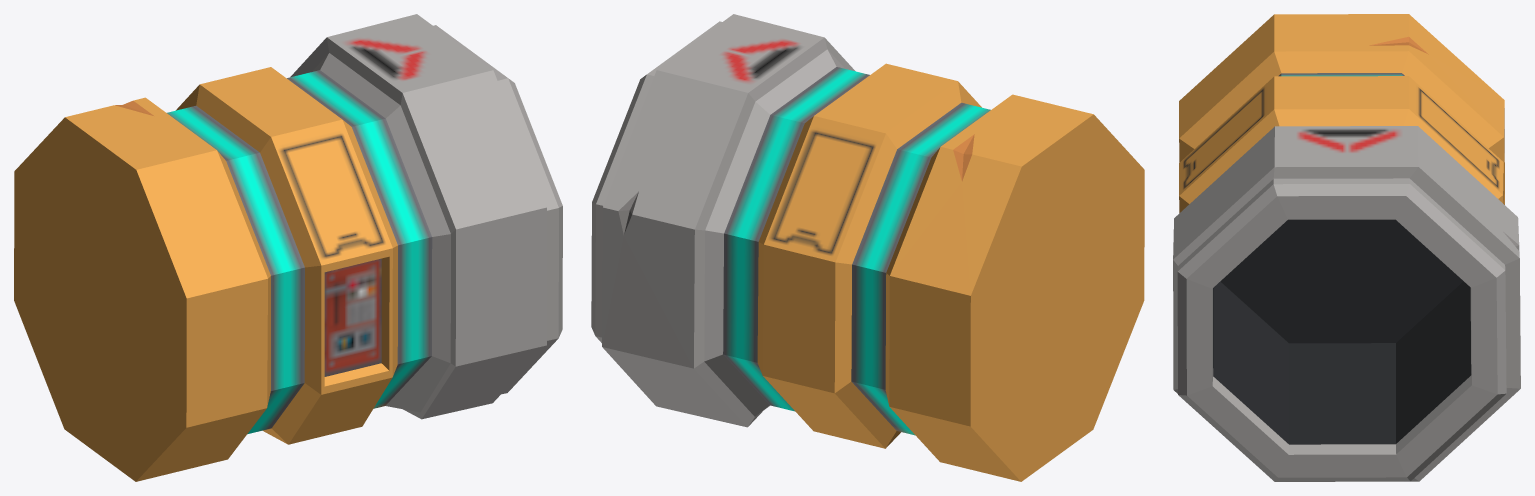
Rendered from SM_Bld_Pipe_Small_End_02.fbx.
3 views of the same model, side by side, from view 1: azimuth 30°, elevation 25°; view 2: azimuth 150°, elevation 25°; view 3: azimuth 270°, elevation 25° (orthographic). The views are drawn at different scales.
Parts seen in each view (by area): view 1: SM_Bld_Pipe_Small_End_02; view 2: SM_Bld_Pipe_Small_End_02; view 3: SM_Bld_Pipe_Small_End_02.
Boxes of the visible parts, <box> form: SM_Bld_Pipe_Small_End_02: <box>14,14,562,481</box>; SM_Bld_Pipe_Small_End_02: <box>591,14,1144,481</box>; SM_Bld_Pipe_Small_End_02: <box>1173,14,1520,481</box>.
Size of the model in its own units: 59.31 by 49.67 by 49.69.
